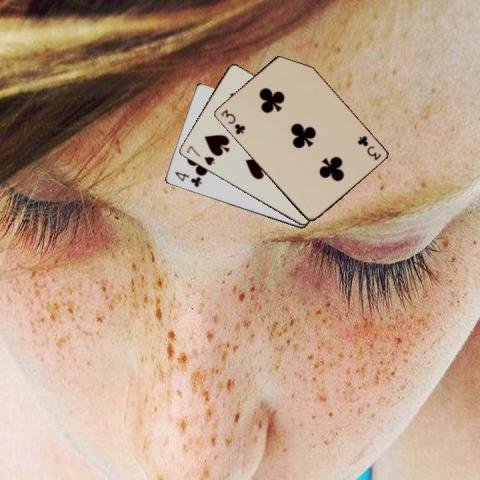3c: (218, 107, 247, 136), (355, 133, 382, 162)
4c: (172, 168, 203, 188)
7s: (183, 143, 216, 167)
